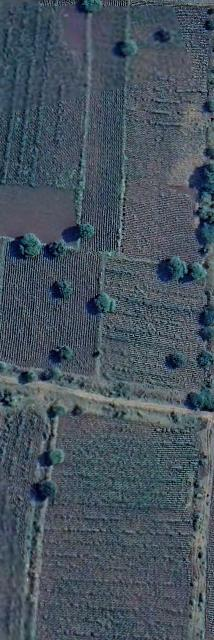EmptyFarms: (0, 183, 79, 244), (57, 0, 91, 73)
Farms: (0, 3, 128, 377), (38, 407, 203, 640), (121, 1, 214, 272), (98, 253, 214, 406), (1, 1, 89, 185), (0, 398, 53, 640)
